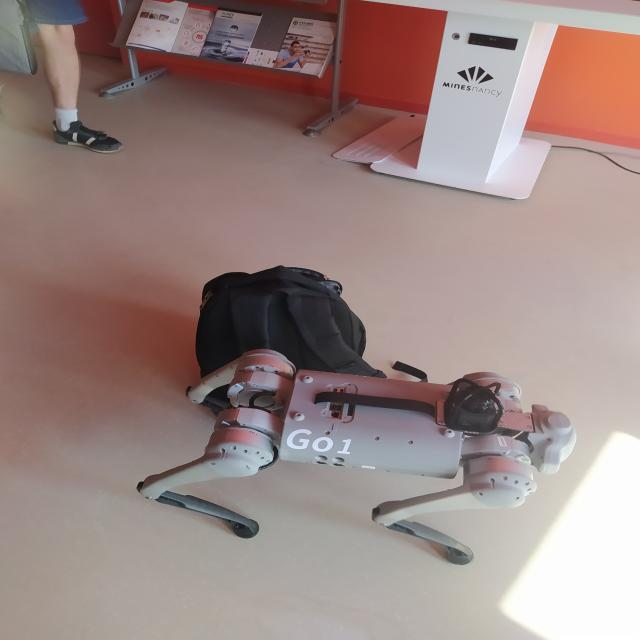unitree-go1-robot: (122, 328, 585, 574)
